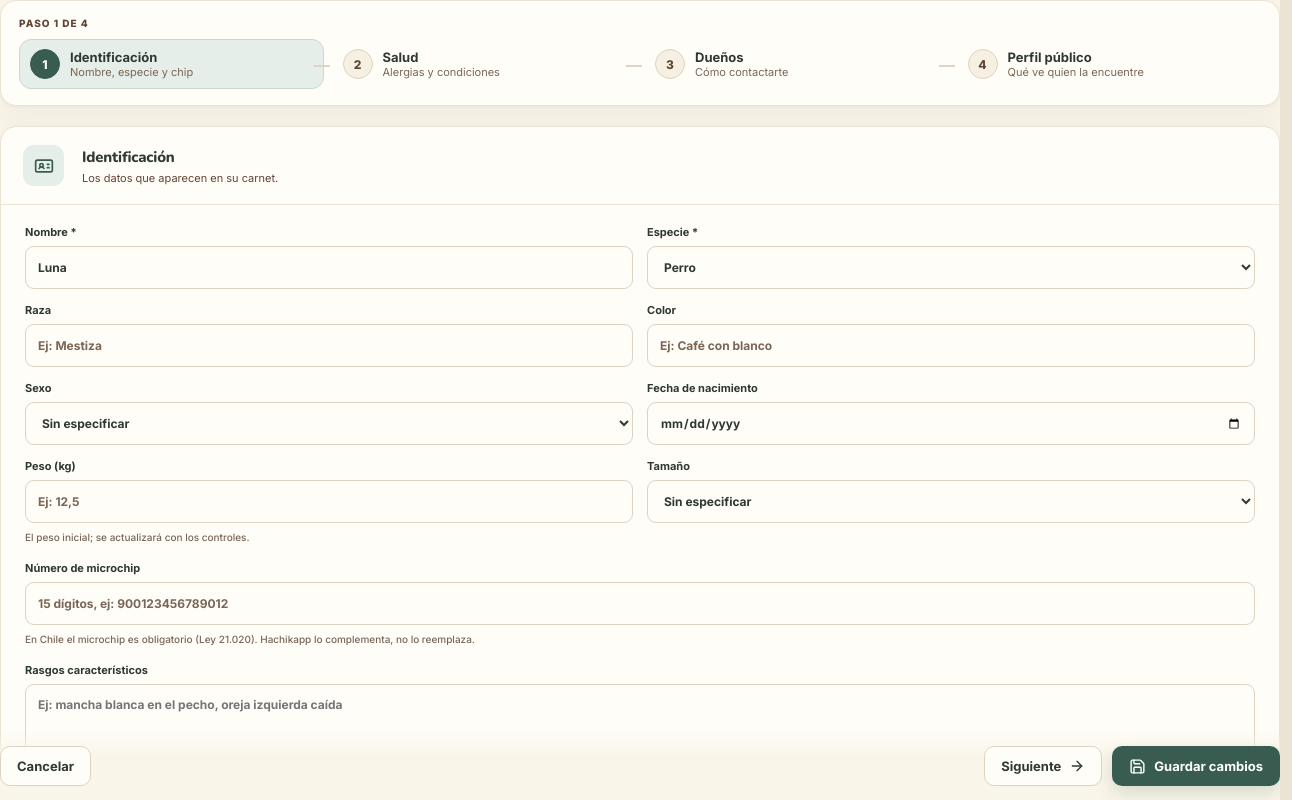
Test case: PetForm wizard › shows server errors for sex and size
Click the button "Guardar cambios": [1196, 766] box 1112,746 -> 1280,786
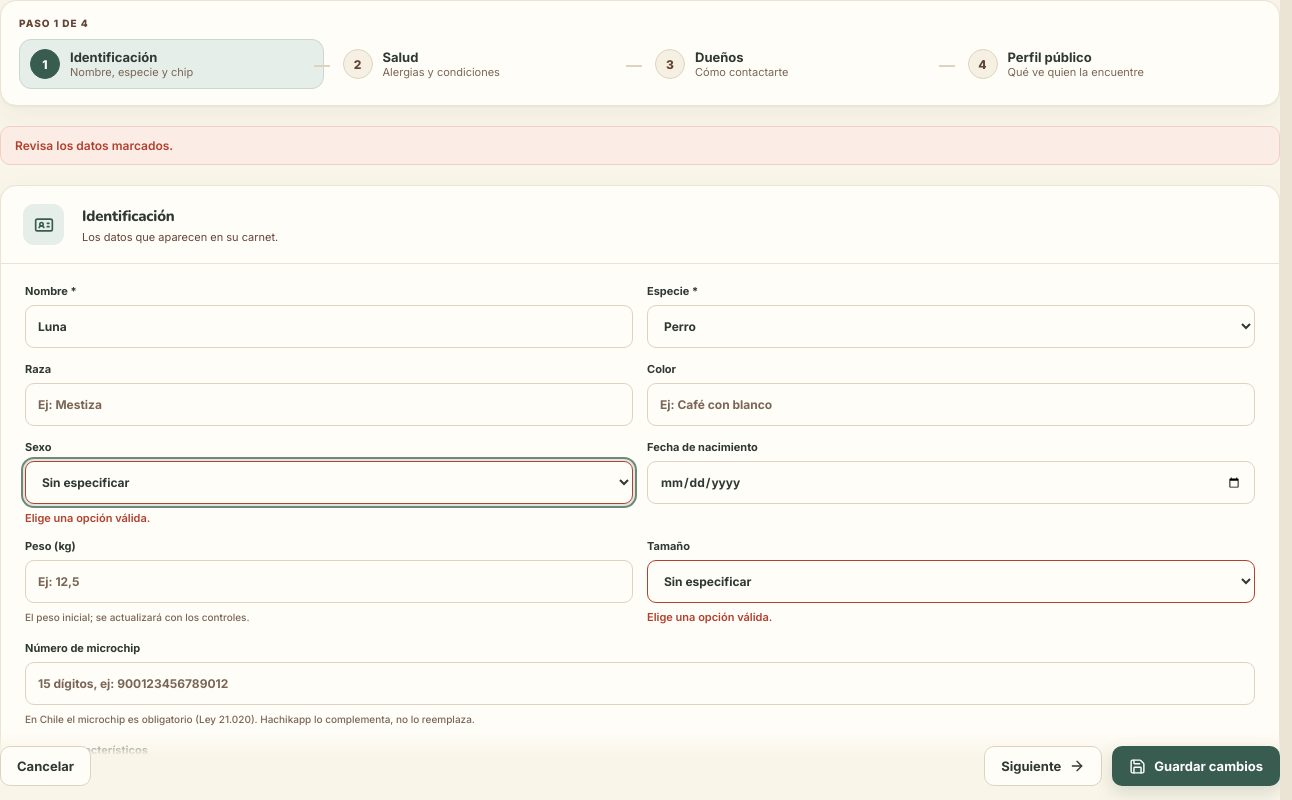
Check: the text "Elige una opción válida." is shown 2 times, box 25,511 -> 150,525; 647,610 -> 772,624
